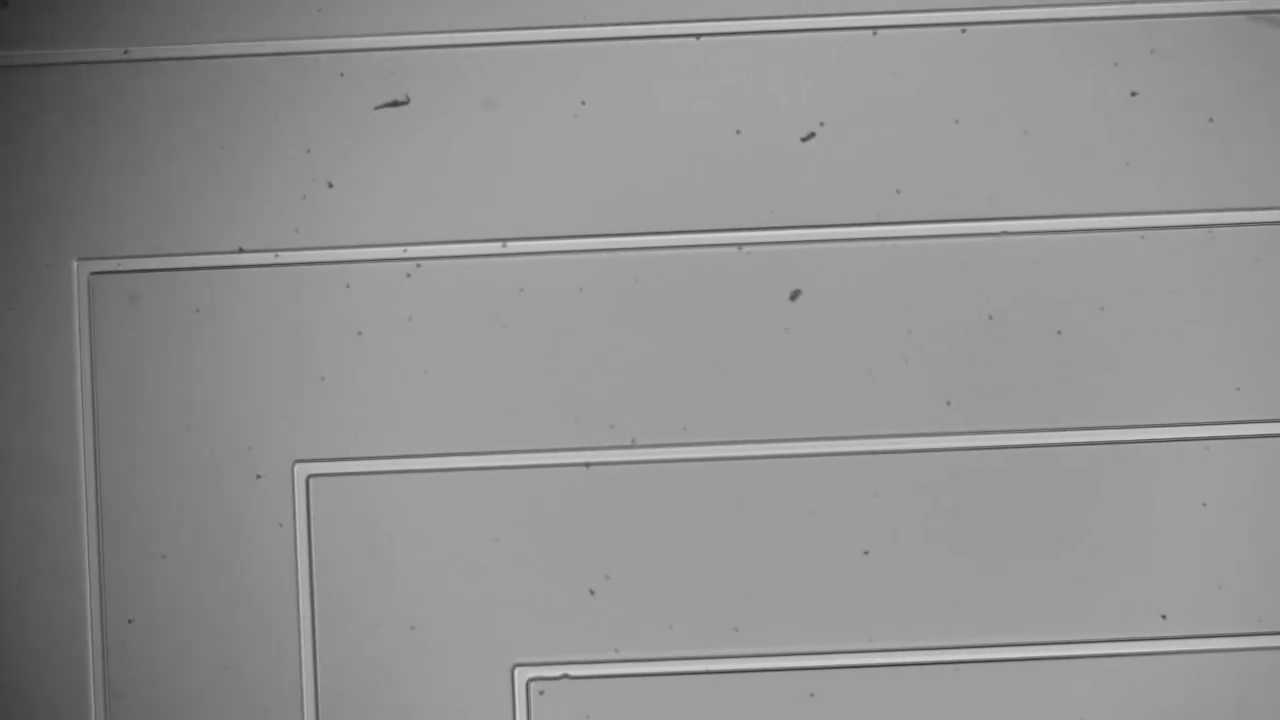edge_bite: (548, 646, 583, 685)
